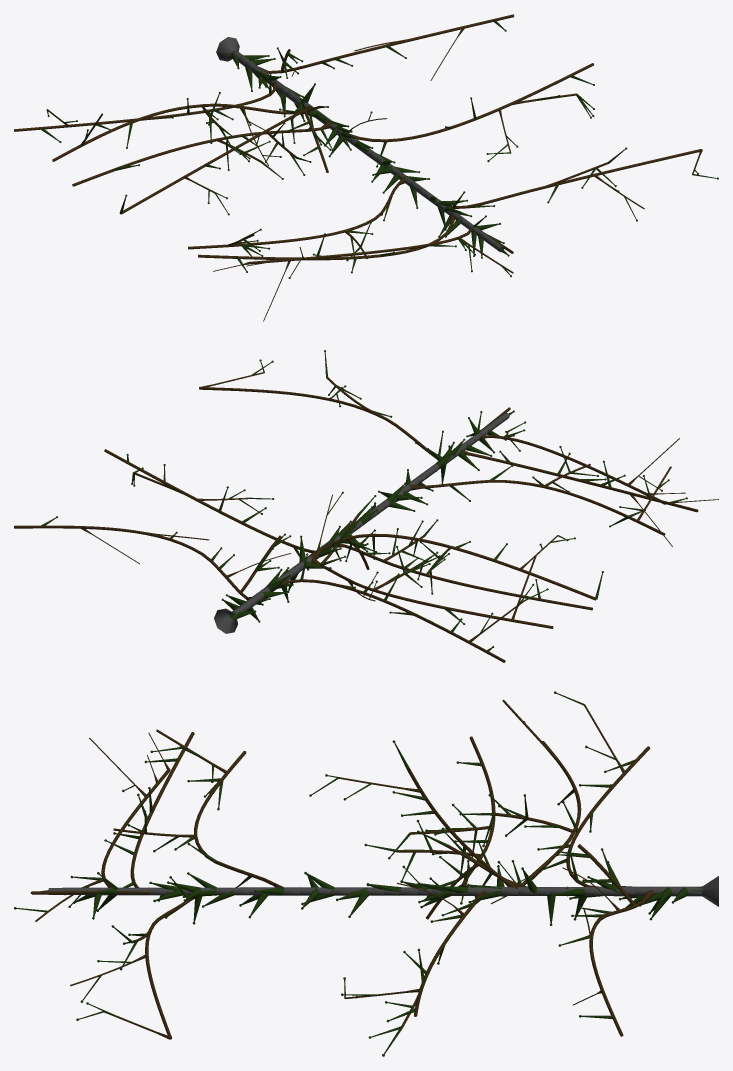
Rendered from tree_1.obj.
3 renders of one model, top to bottom at view 1: azimuth 30°, elevation 25°; view 2: azimuth 150°, elevation 25°; view 3: azimuth 270°, elevation 25°, orthographic. The views are drawn at different scales.
Bounding box in the file's own units: 4.28 × 0.8349 × 4.21.
